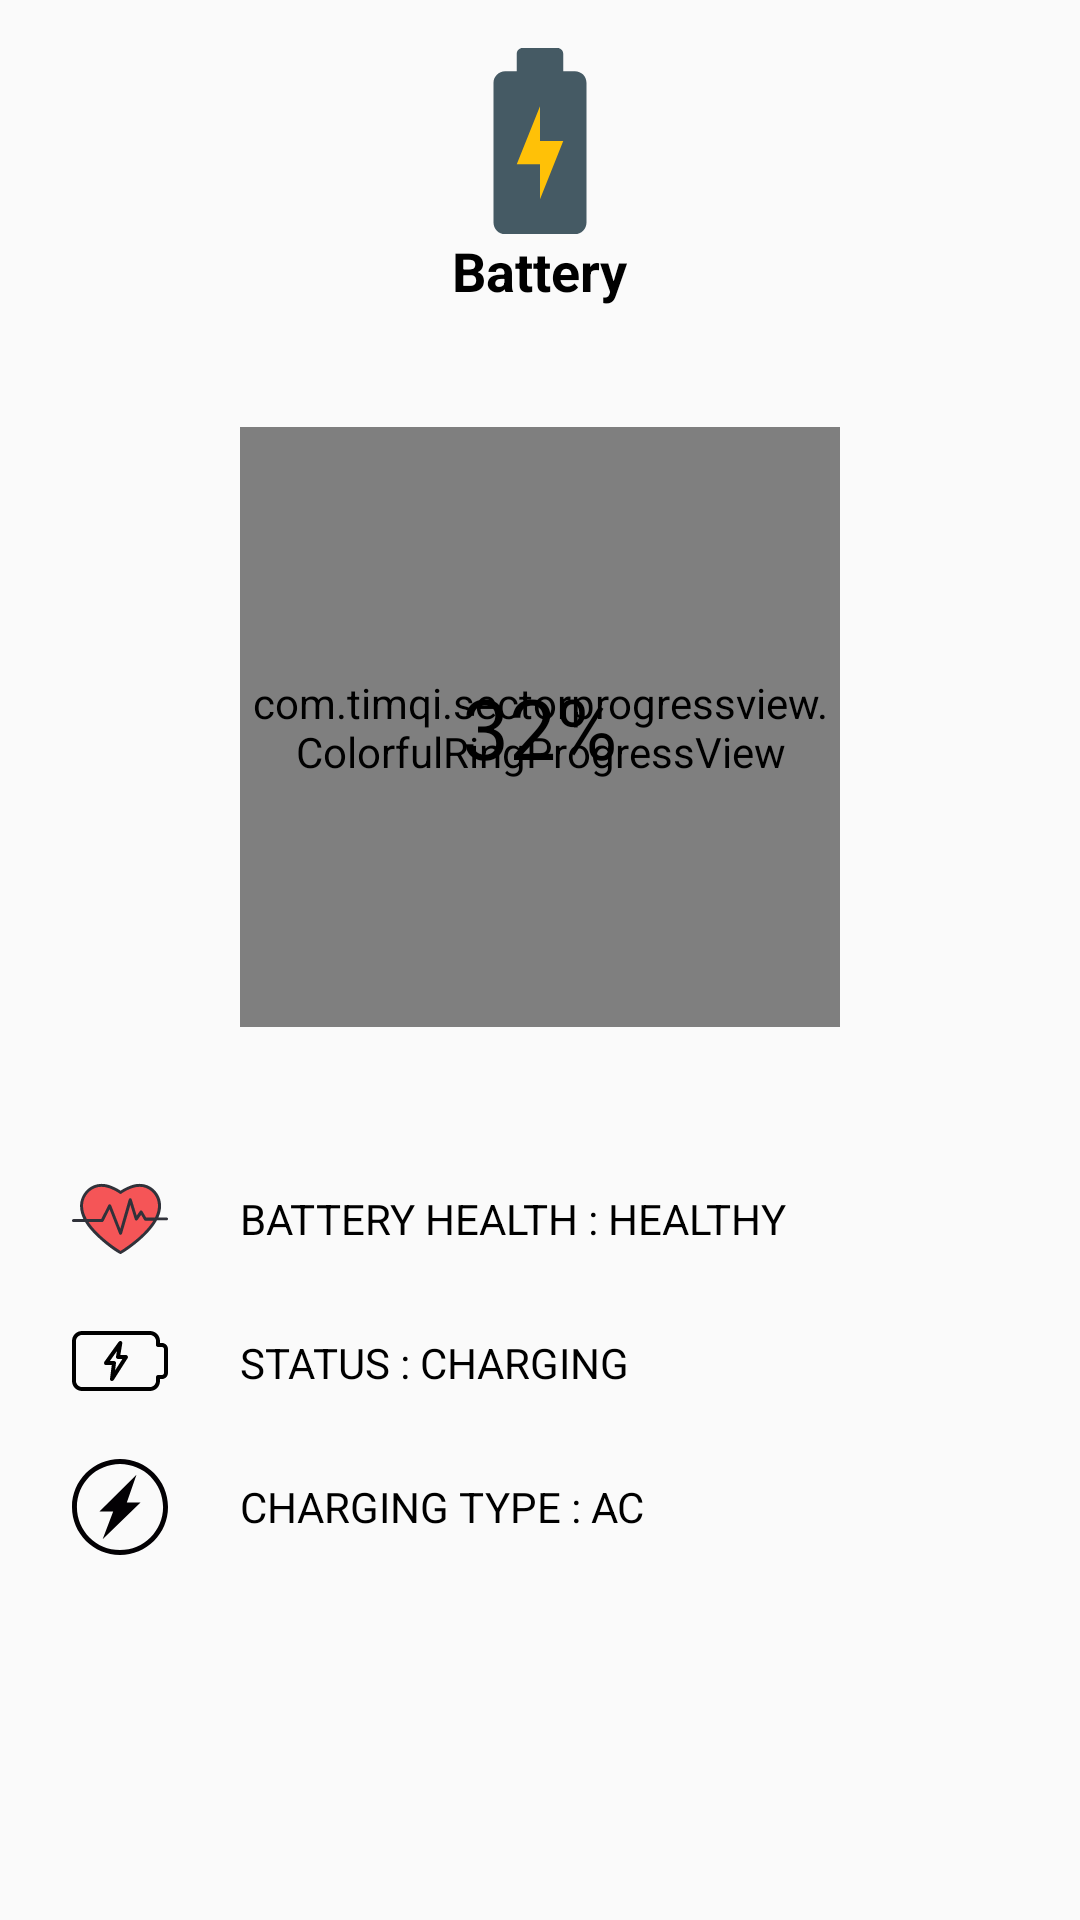

Point at icon controls on the screen. Image size 1080w x 1920h, points as (x,y).
current: (120,1507)
heartbeat: (120,1218)
